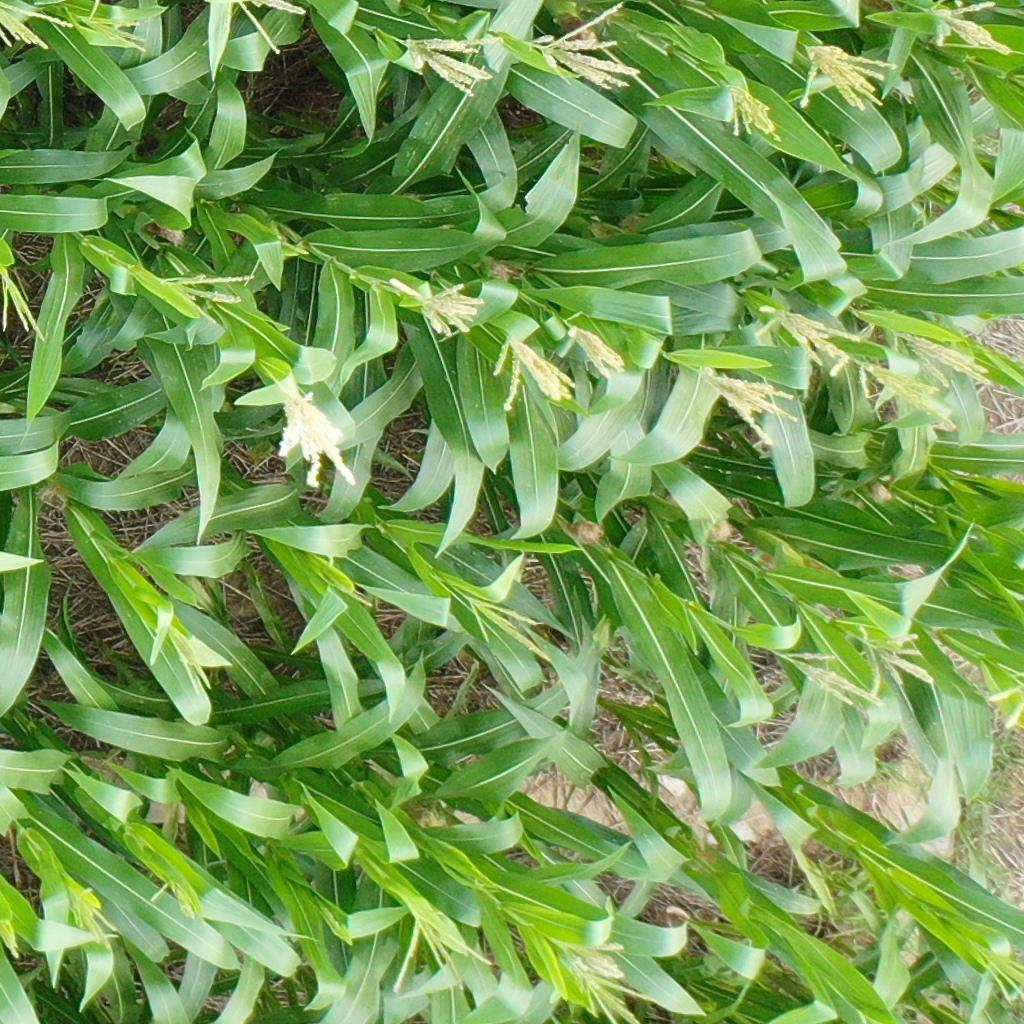Tassel: (532, 1, 642, 94), (390, 903, 492, 991), (695, 364, 800, 446), (276, 385, 356, 489), (755, 303, 863, 377), (801, 39, 899, 114), (856, 359, 956, 429), (490, 333, 575, 411), (891, 326, 993, 389), (781, 651, 881, 714), (407, 32, 504, 96), (467, 594, 555, 664), (389, 271, 482, 336), (853, 624, 935, 693), (161, 274, 253, 324), (928, 1, 1011, 55), (165, 624, 217, 702), (235, 1, 305, 56), (1, 268, 49, 348), (1, 1, 74, 52), (724, 85, 787, 143), (580, 974, 652, 1024), (84, 1, 150, 52), (557, 940, 624, 990), (973, 942, 1024, 1006), (568, 322, 627, 377), (67, 882, 118, 945), (152, 877, 199, 920), (986, 681, 1024, 731), (317, 898, 353, 944), (1, 918, 22, 957)
